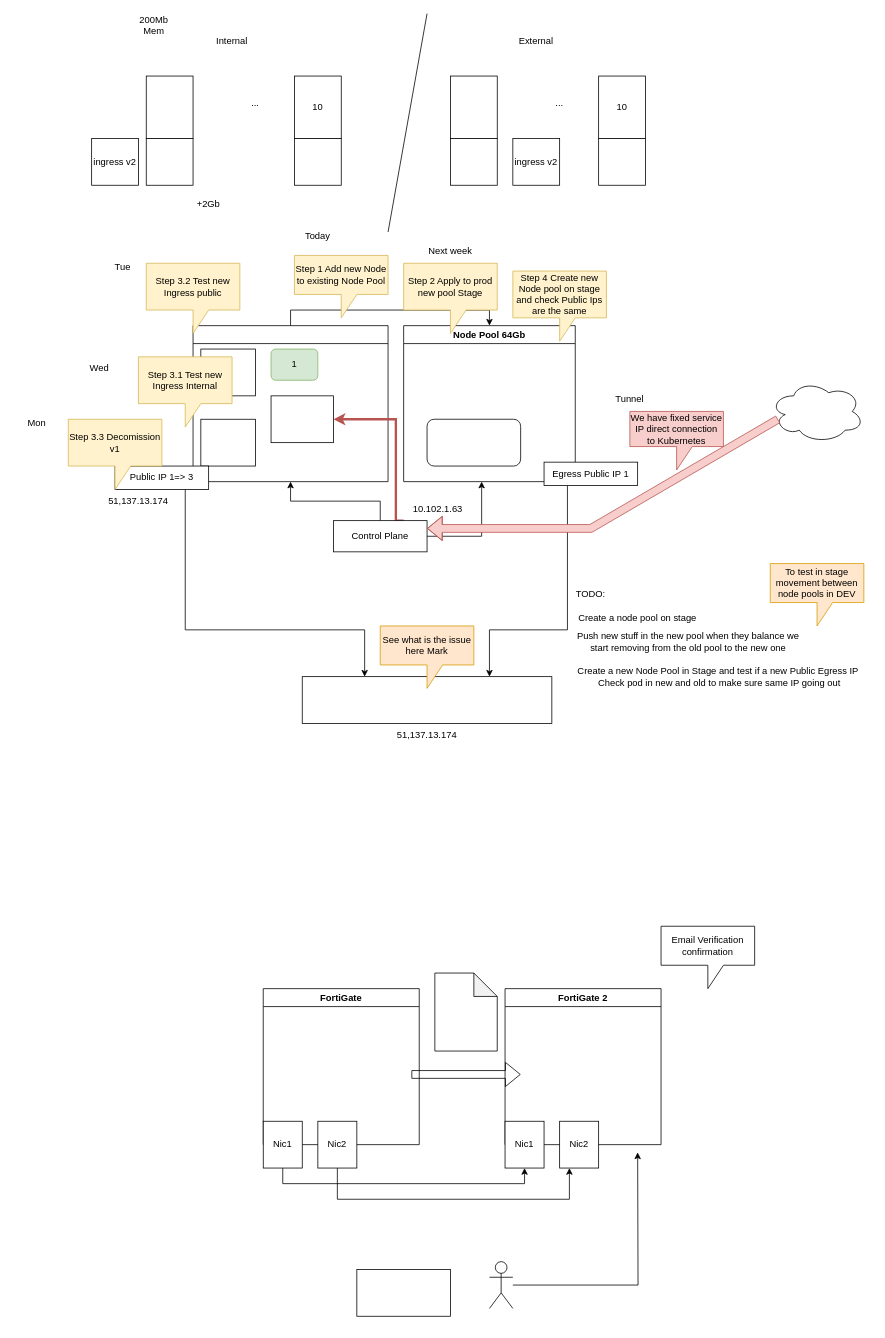
The diagram is 885 pixels wide and 1338 high, and some of its shapes have lost their labels. Here are the shapes that lost their labels. From the top down, the box of each, then its label:
(192, 325, 388, 482): Node Pool 32Gb
(270, 395, 333, 443): complus svc
(769, 379, 864, 443): ComplusPlus
(301, 676, 552, 723): NAT GW Public ip 1
(434, 972, 497, 1051): configs
(356, 1269, 450, 1316): Kubernetes
(489, 1261, 513, 1308): Actor
